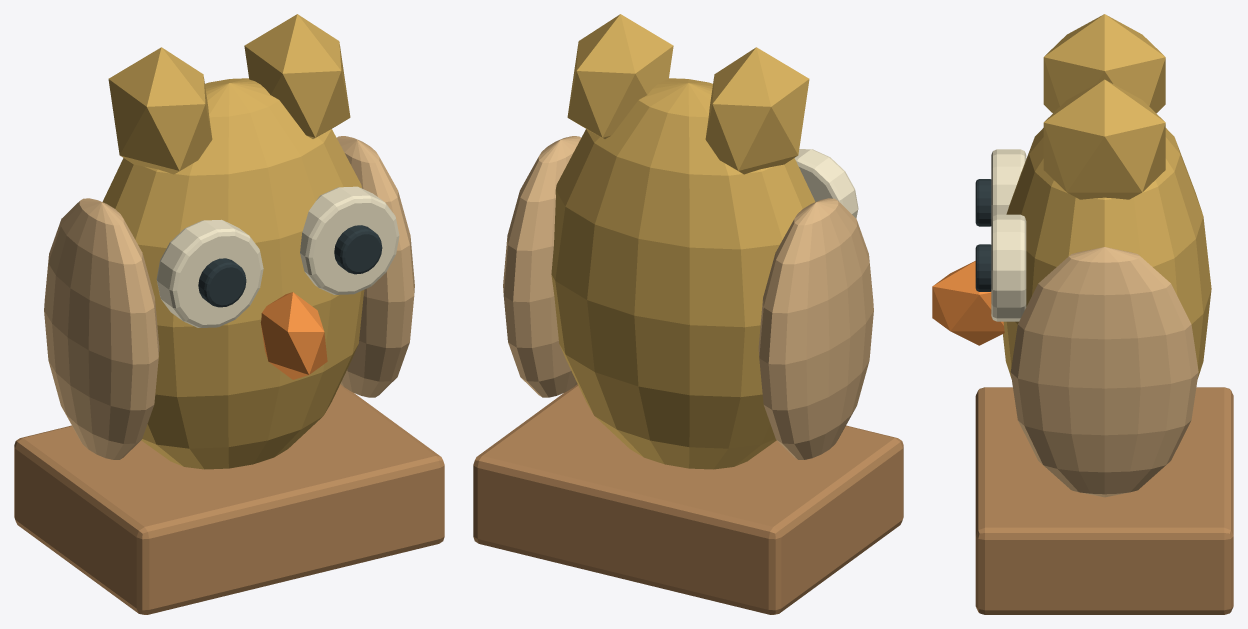
Rendered from P031_ancient_idol.glb.
3 renders of one model, left to right at view 1: azimuth 30°, elevation 25°; view 2: azimuth 150°, elevation 25°; view 3: azimuth 270°, elevation 25°, orthographic.
Visible parts, largest first — view 1: P031_pedestal_001, P031_owl_002, P031_wing_010, P031_ear_005, P031_wing_011, P031_ear_008, P031_eye_003, P031_eye_006, P031_beak_009, P031_pupil_004, P031_pupil_007; view 2: P031_owl_002, P031_pedestal_001, P031_wing_010, P031_wing_011, P031_ear_005, P031_ear_008, P031_eye_003; view 3: P031_pedestal_001, P031_wing_011, P031_owl_002, P031_ear_008, P031_ear_005, P031_eye_006, P031_beak_009, P031_eye_003, P031_pupil_004, P031_pupil_007.
Boxes of the visible parts, left/top/right/bottom form: P031_pedestal_001: left=14, top=384, right=444, bottom=614; P031_owl_002: left=102, top=78, right=364, bottom=469; P031_wing_010: left=44, top=198, right=159, bottom=459; P031_ear_005: left=108, top=47, right=212, bottom=174; P031_wing_011: left=337, top=136, right=414, bottom=397; P031_ear_008: left=244, top=14, right=350, bottom=138; P031_eye_003: left=156, top=219, right=263, bottom=327; P031_eye_006: left=300, top=186, right=399, bottom=294; P031_beak_009: left=260, top=292, right=327, bottom=379; P031_pupil_004: left=198, top=258, right=246, bottom=307; P031_pupil_007: left=334, top=225, right=382, bottom=274; P031_owl_002: left=551, top=78, right=815, bottom=469; P031_pedestal_001: left=473, top=384, right=903, bottom=614; P031_wing_010: left=758, top=198, right=873, bottom=459; P031_wing_011: left=503, top=136, right=580, bottom=397; P031_ear_005: left=705, top=47, right=809, bottom=174; P031_ear_008: left=567, top=14, right=673, bottom=138; P031_eye_003: left=794, top=149, right=858, bottom=218; P031_pedestal_001: left=975, top=387, right=1233, bottom=614; P031_wing_011: left=1010, top=247, right=1198, bottom=497; P031_owl_002: left=1003, top=128, right=1211, bottom=378; P031_ear_008: left=1043, top=79, right=1165, bottom=199; P031_ear_005: left=1043, top=14, right=1165, bottom=113; P031_eye_006: left=991, top=214, right=1026, bottom=321; P031_beak_009: left=932, top=261, right=1004, bottom=345; P031_eye_003: left=991, top=149, right=1026, bottom=219; P031_pupil_004: left=975, top=179, right=991, bottom=226; P031_pupil_007: left=975, top=244, right=991, bottom=291.
Size of the model in its own units: 0.2 by 0.298 by 0.1635.
